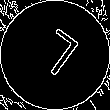L_SW: (28, 26, 82, 84)
